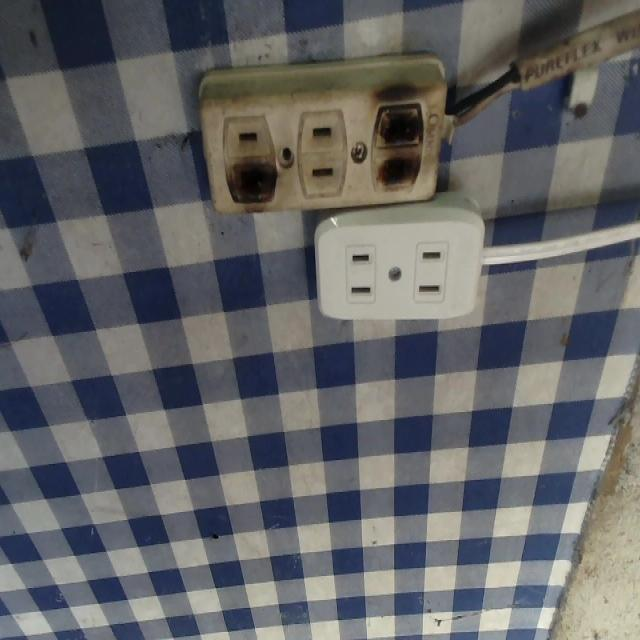-: (371, 94, 430, 194), (222, 158, 279, 210)
